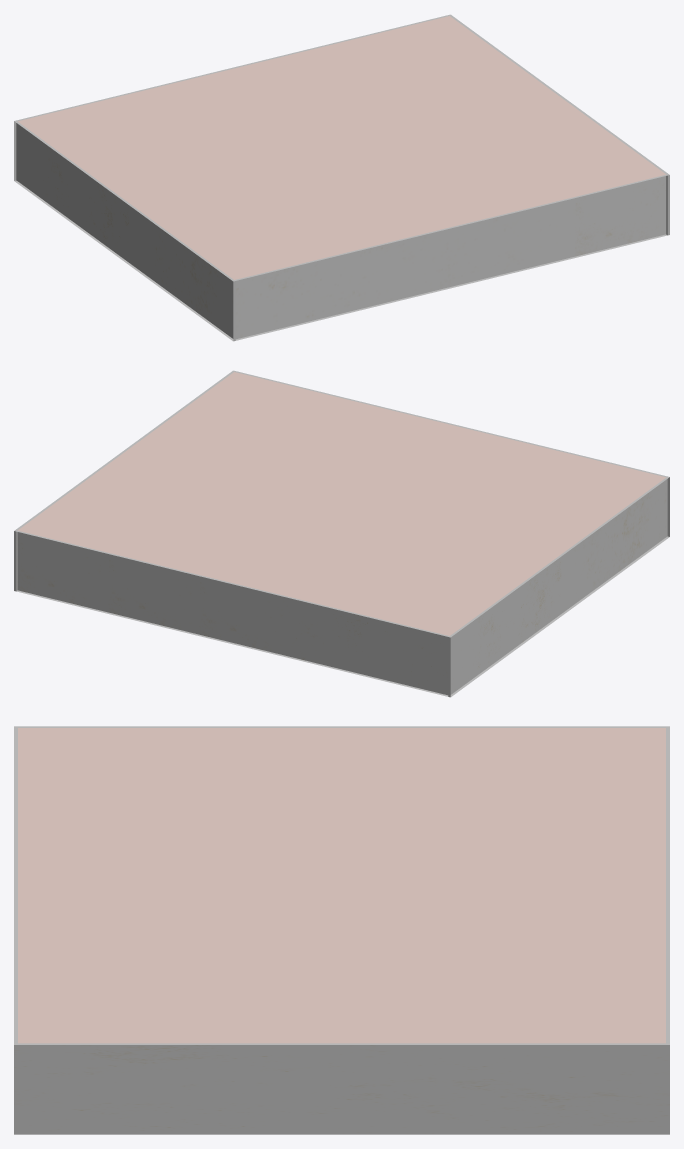
The model's file is House(archimesh)3(w_roof&floor-w_outDoors).fbx.
3 renders of one model, top to bottom at view 1: azimuth 30°, elevation 25°; view 2: azimuth 150°, elevation 25°; view 3: azimuth 270°, elevation 25°, orthographic. The views are drawn at different scales.
Visible parts, largest first — view 1: Cube.002, Room.004, Room.005, Room; view 2: Cube.002, Room.005, Room.004, Room.001, Room.002, Room.003; view 3: Cube.002.
Boxes of the visible parts, <box> form: Cube.002: <box>14,14,669,341</box>; Room.004: <box>129,198,575,339</box>; Room.005: <box>17,124,129,262</box>; Room: <box>575,176,666,256</box>; Cube.002: <box>14,370,669,697</box>; Room.005: <box>290,557,561,695</box>; Room.004: <box>561,480,666,613</box>; Room.001: <box>17,532,108,612</box>; Room.002: <box>108,554,199,634</box>; Room.003: <box>199,576,290,656</box>; Cube.002: <box>14,726,669,1134</box>.
Size of the model in its own units: 1920 by 261 by 1670.
